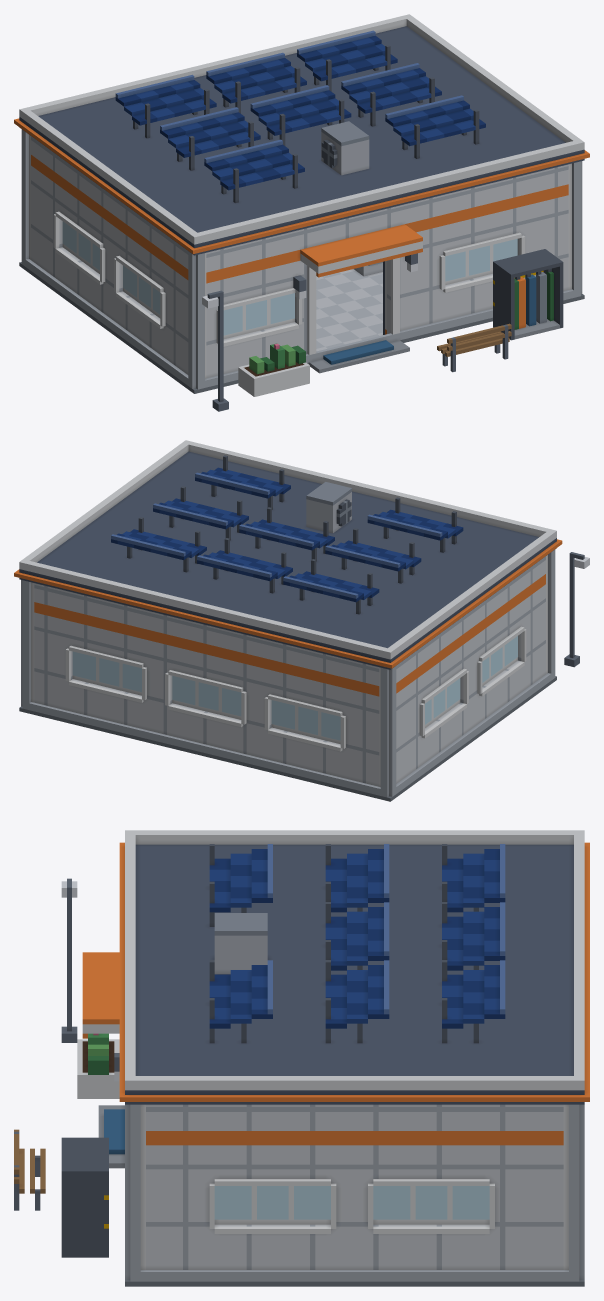
File: lab_e3_l1.glb
3 renders of one model, top to bottom at view 1: azimuth 30°, elevation 25°; view 2: azimuth 150°, elevation 25°; view 3: azimuth 270°, elevation 25°, orthographic. The views are drawn at different scales.
Parts seen in each view (by area): view 1: CutRoof, CutPZ, Base, CutNX, CutNZ; view 2: CutRoof, CutNZ, Base, CutNX, CutPZ; view 3: CutRoof, CutPX, Base, CutPZ, CutNZ.
Boxes of the visible parts, x1=… form: CutRoof: x1=14, y1=14, x2=589, y2=255; CutPZ: x1=188, y1=161, x2=582, y2=356; Base: x1=19, y1=231, x2=584, y2=411; CutNX: x1=31, y1=136, x2=188, y2=349; CutNZ: x1=21, y1=129, x2=30, y2=234; CutRoof: x1=14, y1=440, x2=562, y2=669; CutNZ: x1=21, y1=580, x2=396, y2=765; Base: x1=19, y1=552, x2=589, y2=801; CutNX: x1=396, y1=556, x2=545, y2=759; CutPZ: x1=546, y1=550, x2=555, y2=649; CutRoof: x1=119, y1=830, x2=589, y2=1104; CutPX: x1=146, y1=1104, x2=563, y2=1236; Base: x1=14, y1=878, x2=584, y2=1286; CutPZ: x1=82, y1=952, x2=145, y2=1238; CutNZ: x1=563, y1=1104, x2=584, y2=1238.
Size of the model in its own units: 11.6 by 5 by 10.9.
